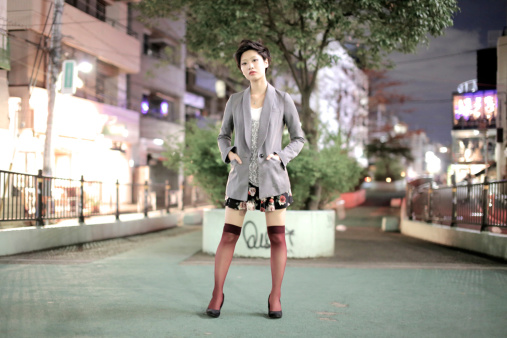em pe: (200, 40, 314, 300)
